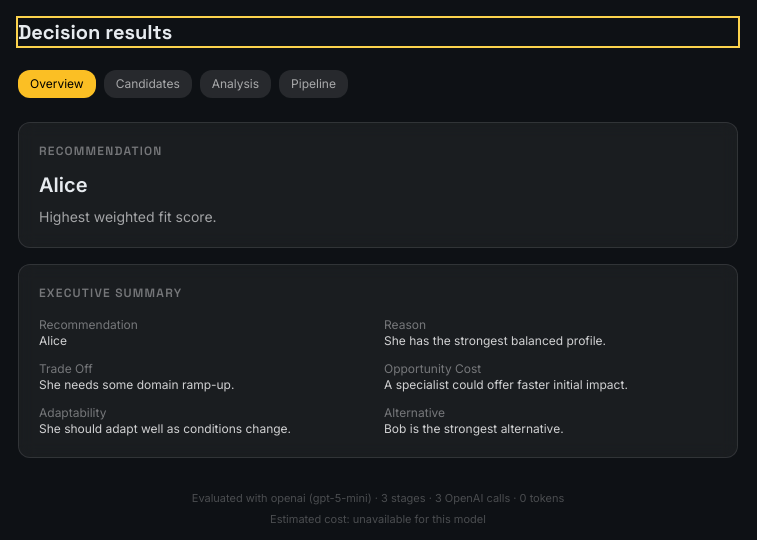
Test: Results — cross-scenario consistency is shown as not measured › displays 'not measured' rather than a fabricated adaptability number
Click the tab "Analysis". click: (235, 84)
box: [200,70,271,98]
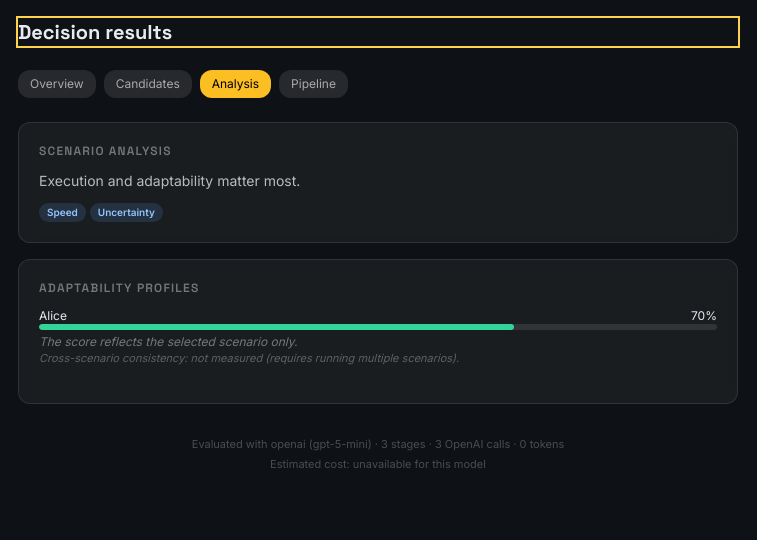
Check: the text "not measured" is shown, box [39,351,459,365]
